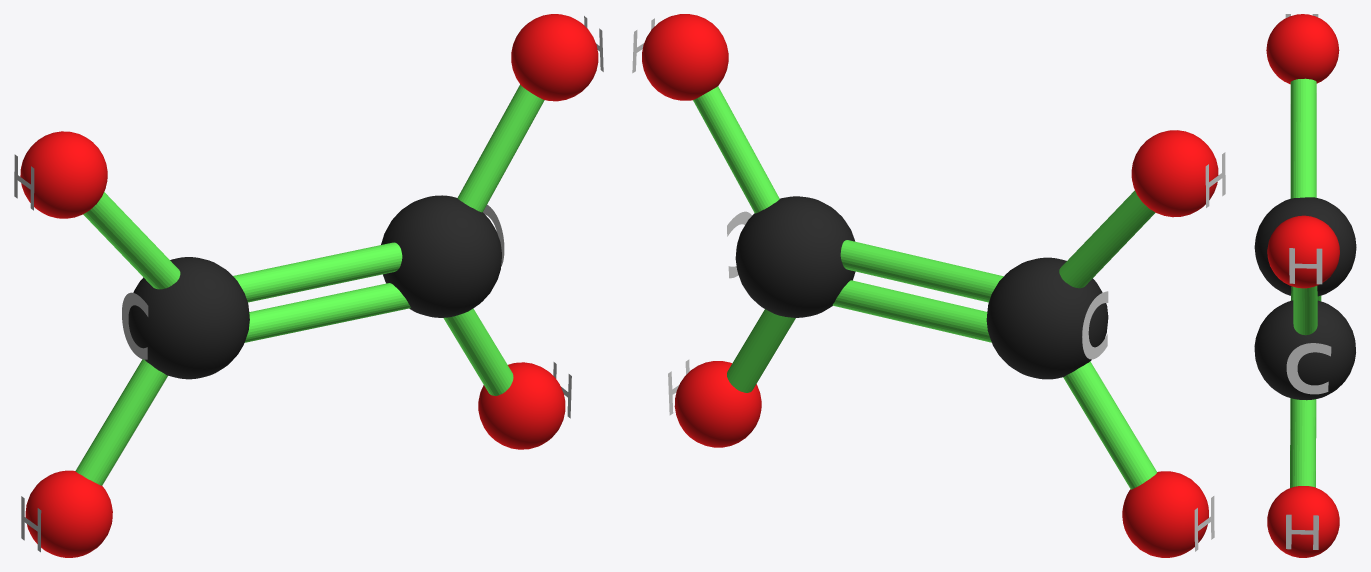
File: ethene.fbx
3 renders of one model, left to right at view 1: azimuth 30°, elevation 25°; view 2: azimuth 150°, elevation 25°; view 3: azimuth 270°, elevation 25°, orthographic. The views are drawn at different scales.
Visible parts, largest first — view 1: Sphere.001, Sphere, Sphere.007, Sphere.004, Sphere.002, Sphere.006, Cylinder.001, Cylinder.006, Cylinder.002, Cylinder.003, Cylinder.005, Cylinder.004 (+1 smaller); view 2: Sphere.001, Sphere, Sphere.007, Sphere.004, Sphere.002, Sphere.006, Cylinder.001, Cylinder.006, Cylinder.002, Cylinder.003, Cylinder.005, Cylinder.004 (+1 smaller); view 3: Sphere.001, Sphere.004, Sphere, Sphere.006, Sphere.007, Cylinder.005, Cylinder.004, Cylinder.003, Text.004, Text.002, Text.006.
Boxes of the visible parts, x1=… form: Sphere.001: x1=381, y1=195, x2=501, y2=317; Sphere: x1=128, y1=257, x2=249, y2=379; Sphere.007: x1=511, y1=14, x2=598, y2=101; Sphere.004: x1=20, y1=131, x2=107, y2=218; Sphere.002: x1=25, y1=470, x2=112, y2=557; Sphere.006: x1=478, y1=362, x2=565, y2=449; Cylinder.001: x1=233, y1=242, x2=402, y2=302; Cylinder.006: x1=244, y1=283, x2=410, y2=342; Cylinder.002: x1=75, y1=359, x2=167, y2=485; Cylinder.003: x1=457, y1=84, x2=544, y2=212; Cylinder.005: x1=83, y1=192, x2=180, y2=289; Cylinder.004: x1=443, y1=308, x2=513, y2=395; Sphere.001: x1=735, y1=196, x2=855, y2=317; Sphere: x1=986, y1=257, x2=1108, y2=379; Sphere.007: x1=642, y1=14, x2=728, y2=100; Sphere.004: x1=1131, y1=130, x2=1218, y2=217; Sphere.002: x1=1122, y1=471, x2=1208, y2=557; Sphere.006: x1=674, y1=361, x2=761, y2=447; Cylinder.001: x1=840, y1=240, x2=1003, y2=302; Cylinder.006: x1=832, y1=280, x2=991, y2=342; Cylinder.002: x1=1063, y1=361, x2=1157, y2=489; Cylinder.003: x1=693, y1=86, x2=779, y2=213; Cylinder.005: x1=1059, y1=190, x2=1155, y2=288; Cylinder.004: x1=727, y1=309, x2=795, y2=392; Sphere.001: x1=1254, y1=300, x2=1355, y2=400; Sphere.004: x1=1266, y1=14, x2=1339, y2=84; Sphere: x1=1254, y1=197, x2=1356, y2=296; Sphere.006: x1=1267, y1=486, x2=1339, y2=557; Sphere.007: x1=1267, y1=215, x2=1339, y2=288; Cylinder.005: x1=1290, y1=78, x2=1316, y2=198; Cylinder.004: x1=1290, y1=398, x2=1316, y2=487; Cylinder.003: x1=1293, y1=286, x2=1317, y2=335; Text.004: x1=1286, y1=343, x2=1331, y2=394; Text.002: x1=1289, y1=248, x2=1322, y2=284; Text.006: x1=1286, y1=514, x2=1318, y2=549.
Size of the model in its own units: 1625 by 1143 by 301.
